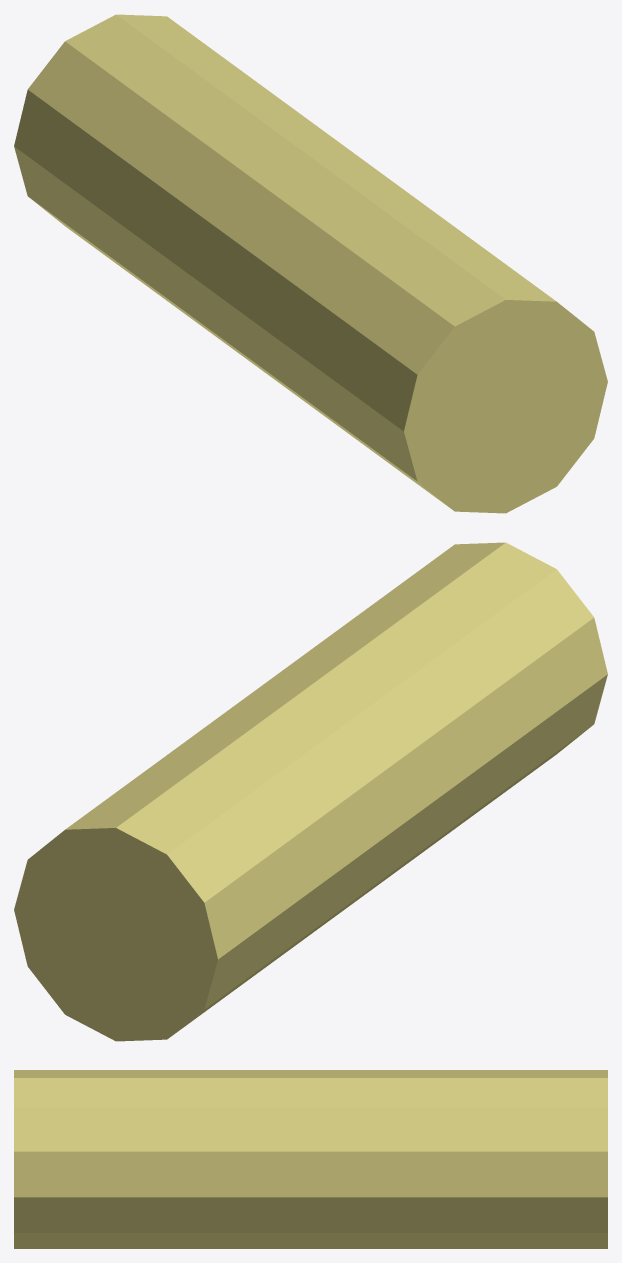
The model's file is Bridge_cylinder.fbx.
3 renders of one model, top to bottom at view 1: azimuth 30°, elevation 25°; view 2: azimuth 150°, elevation 25°; view 3: azimuth 270°, elevation 25°, orthographic. The views are drawn at different scales.
Parts seen in each view (by area): view 1: pCylinder1; view 2: pCylinder1; view 3: pCylinder1.
Part boxes in pixels (x1=…): pCylinder1: x1=14, y1=14, x2=607, y2=513; pCylinder1: x1=14, y1=542, x2=607, y2=1041; pCylinder1: x1=14, y1=1070, x2=607, y2=1248.
Size of the model in its own units: 185 by 185 by 611.
